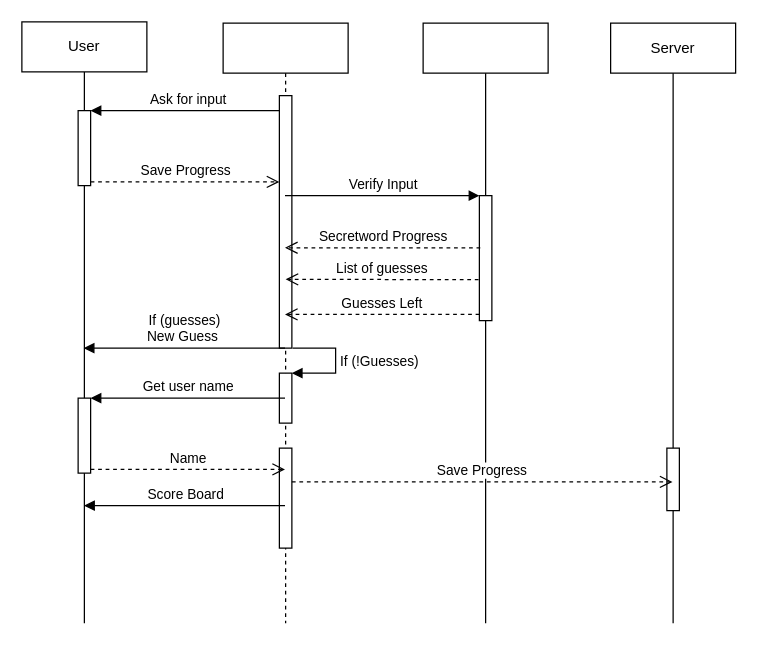
The diagram is 758 pixels wide and 645 high, and some of its shapes have lost their labels. Here are the shapes that lost their labels. From the top down, the box of each, then its label:
(222, 22, 348, 623): Interface
(422, 22, 548, 623): App
